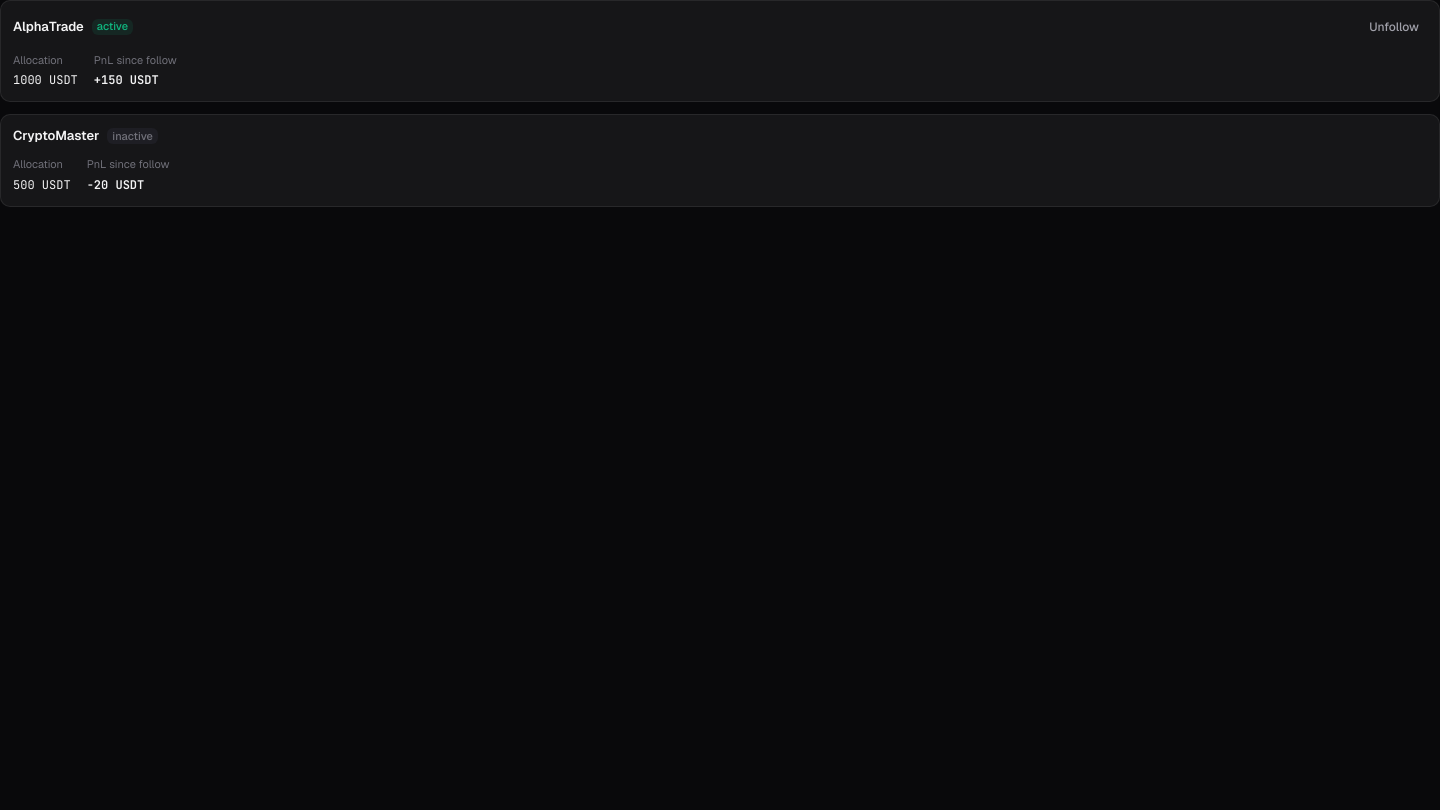
Scenario: FollowingList › clicking Unfollow opens confirm dialog
Click the button "Unfollow": (1394, 27) x1=1361 y1=13 x2=1427 y2=41
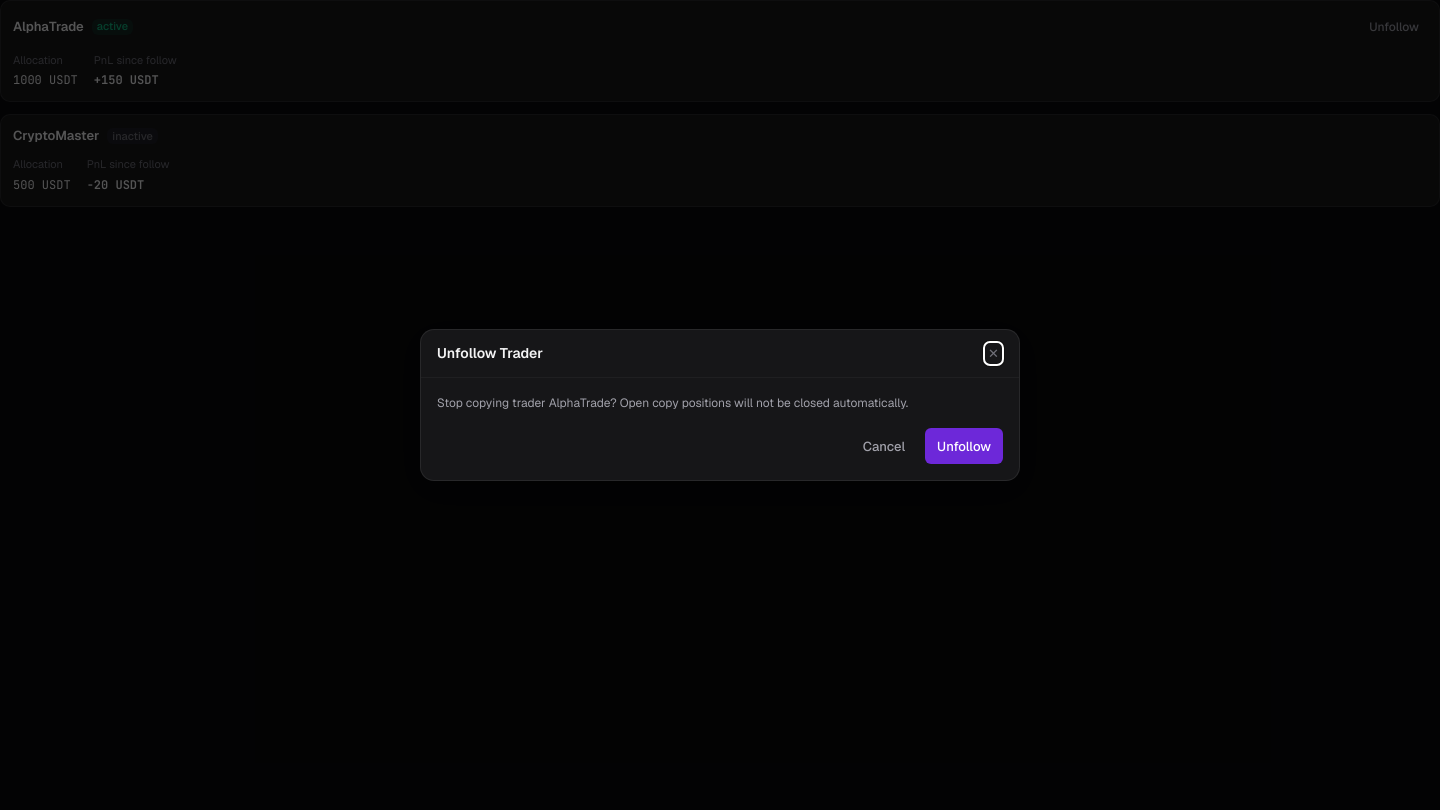
Expected: the text "Unfollow Trader" is shown, x1=437 y1=344 x2=543 y2=363
